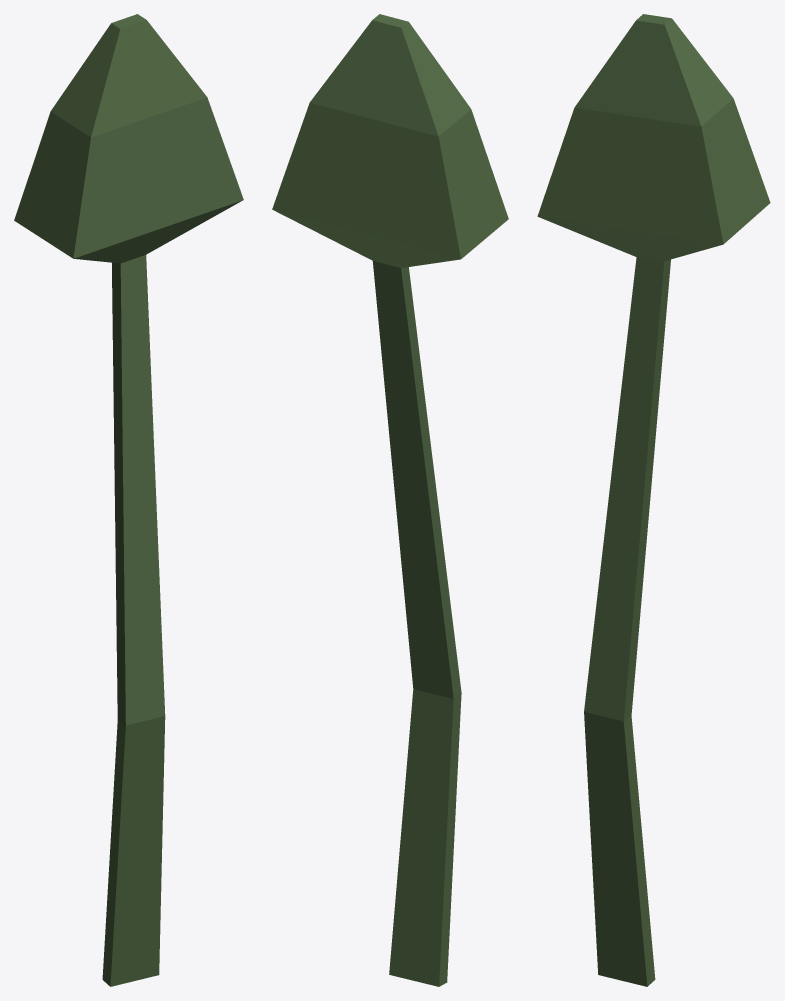
Rendered from Flower_2.glb.
The picture shows the model from 3 angles, left to right: view 1: azimuth 30°, elevation 25°; view 2: azimuth 150°, elevation 25°; view 3: azimuth 330°, elevation 25°; orthographic projection. The views are drawn at different scales.
Parts seen in each view (by area): view 1: Flower_2; view 2: Flower_2; view 3: Flower_2.
Part boxes in pixels (box(x1,y1,x2,y2)): Flower_2: box(14, 14, 243, 986); Flower_2: box(272, 14, 508, 986); Flower_2: box(537, 14, 770, 986).
Bounding box in the file's own units: 0.0839 × 0.4117 × 0.0499.
